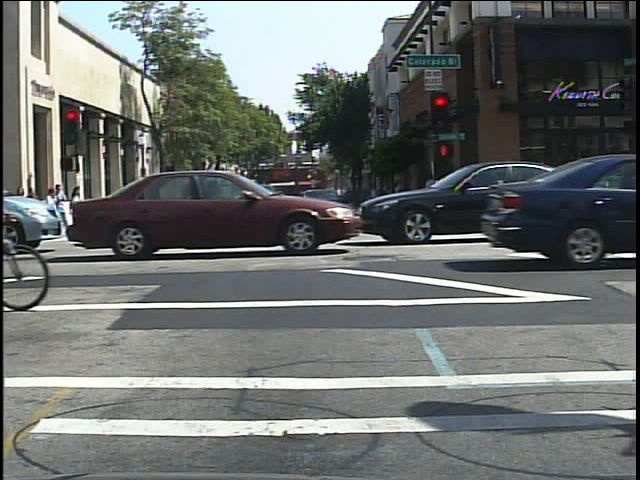person: (594, 157, 620, 222)
